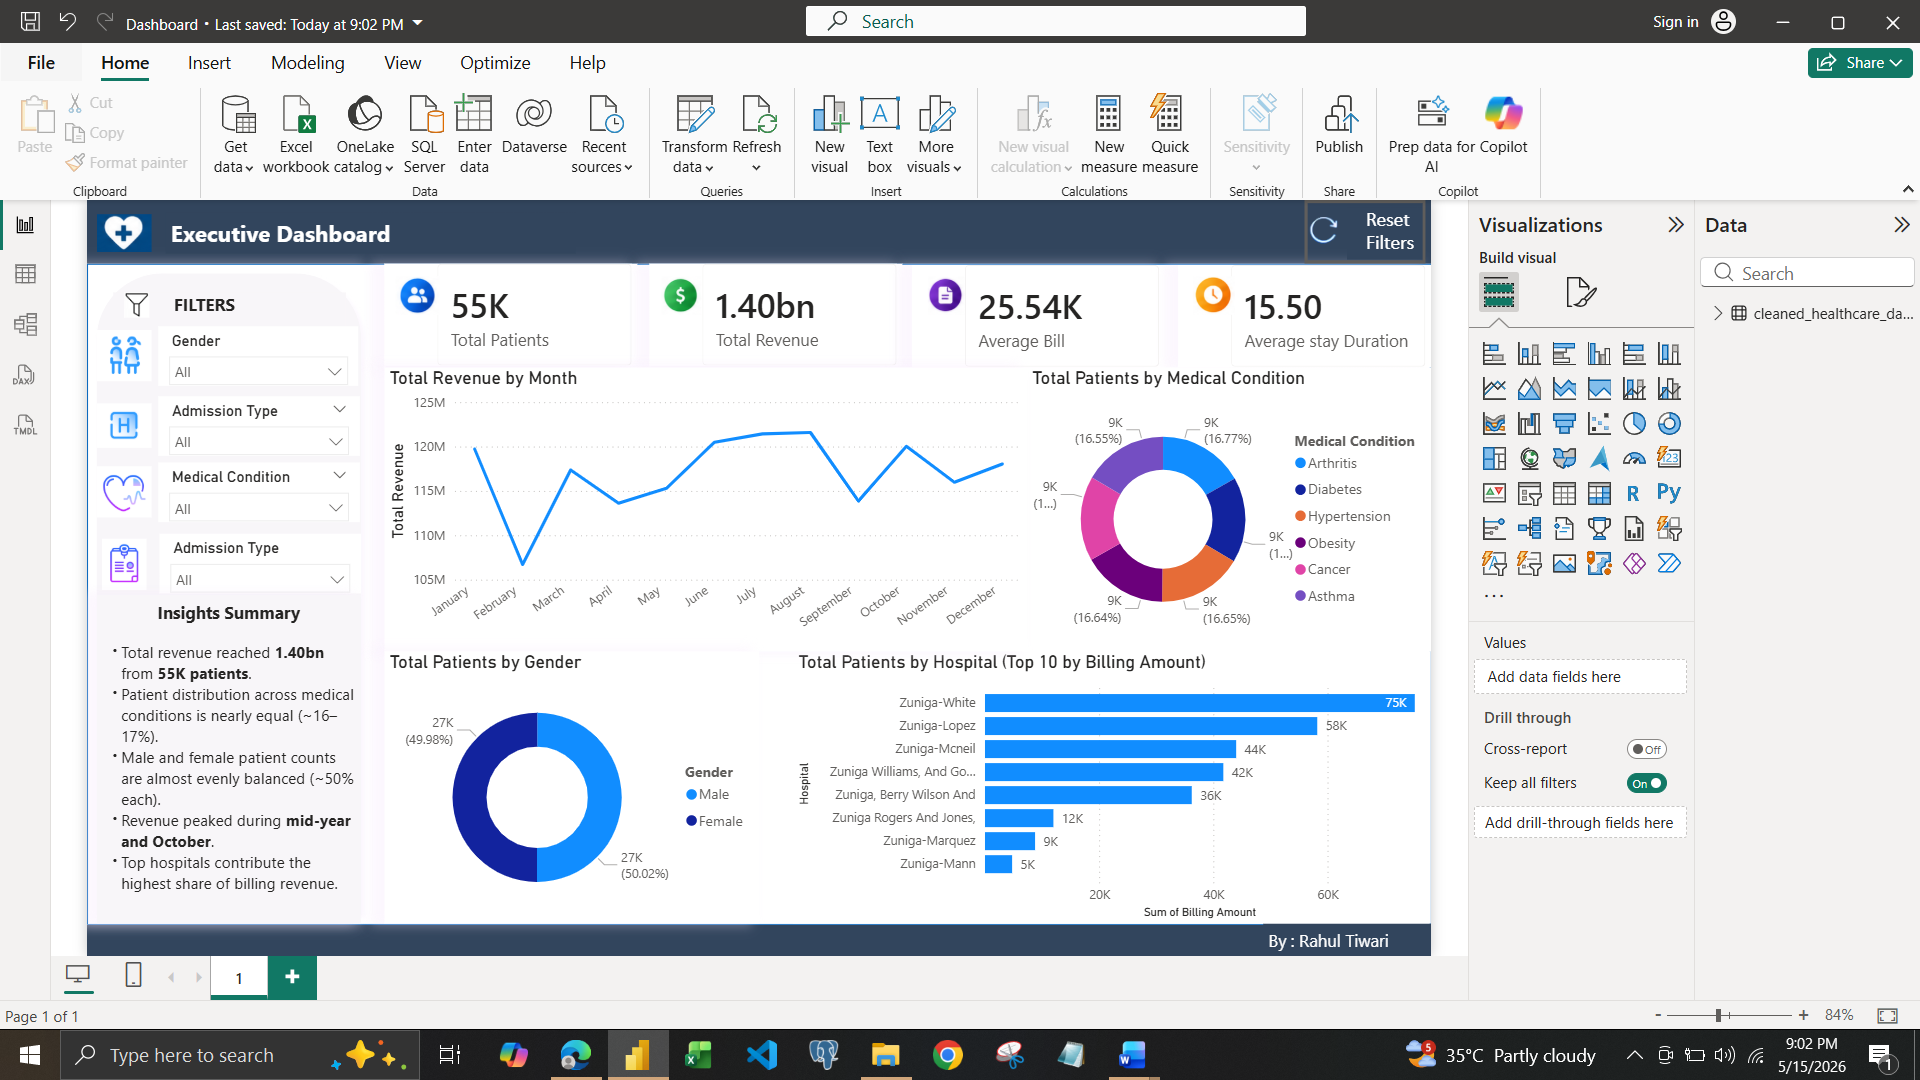

The page's visual inventory and layout, read from the dashboard file:
{"tool":"powerbi","page":{"name":"1","canvas":[1280,720],"ordinal":0},"visuals":[{"type":"shape","box":[0,60.7,1279.8,629.8],"z":0},{"type":"cardVisual","fields":{"Data":["cleaned_healthcare_dataset.Total Patients"]},"box":[283.3,60.7,240.5,97.6],"z":1000},{"type":"cardVisual","fields":{"Data":["cleaned_healthcare_dataset.Total Revenue"]},"box":[535.7,60.7,240.5,97.6],"z":2000},{"type":"cardVisual","fields":{"Data":["cleaned_healthcare_dataset.Average Bill"]},"box":[785.7,61.9,240.5,97.6],"z":3000},{"type":"cardVisual","fields":{"Data":["cleaned_healthcare_dataset.Average stay Duration"]},"box":[1039.3,61.9,240.5,97.6],"z":4000},{"type":"clusteredBarChart","title":"Total Patients by Hospital (Top 10 by Billing Amount)","fields":{"Category":["cleaned_healthcare_dataset.Hospital"],"Y":["Sum(cleaned_healthcare_dataset.Billing Amount)"]},"box":[672.6,429.8,607.1,259.5],"z":5000},{"type":"donutChart","fields":{"Category":["cleaned_healthcare_dataset.Medical Condition"],"Y":["cleaned_healthcare_dataset.Total Patients"]},"box":[895.2,159.5,384.5,270.2],"z":6000},{"type":"lineChart","fields":{"Category":["cleaned_healthcare_dataset.Date of Admission.Variation.Date Hierarchy.Month"],"Y":["cleaned_healthcare_dataset.Total Revenue"]},"box":[283.3,159.5,611.9,270.2],"z":7000},{"type":"donutChart","fields":{"Category":["cleaned_healthcare_dataset.Gender"],"Y":["cleaned_healthcare_dataset.Total Patients"]},"box":[283.3,429.8,357.1,259.5],"z":8000},{"type":"shape","box":[0,60.7,270.2,628.6],"z":9000},{"type":"textbox","box":[25,88.1,221.4,32.1],"z":10000},{"type":"slicer","fields":{"Values":["cleaned_healthcare_dataset.Admission Type"]},"box":[67.9,186.9,191.7,57.1],"z":11000},{"type":"slicer","fields":{"Values":["cleaned_healthcare_dataset.Gender"]},"box":[67.9,120.2,190.5,57.1],"z":12000},{"type":"slicer","fields":{"Values":["cleaned_healthcare_dataset.Medical Condition"]},"box":[67.9,250,191.7,57.1],"z":13000},{"type":"slicer","fields":{"Values":["cleaned_healthcare_dataset.Admission Type"]},"box":[69,317.9,191.7,57.1],"z":14000},{"type":"image","box":[9.5,123.8,52.4,48.8],"z":15000},{"type":"image","box":[9.5,190.5,52.4,48.8],"z":16000},{"type":"image","box":[9.5,253.6,52.4,48.8],"z":17000},{"type":"image","box":[9.5,322.6,52.4,48.8],"z":18000},{"type":"image","box":[25,88.1,45.2,23.8],"z":19000},{"type":"image","box":[9.5,11.9,52.4,48.8],"z":20000},{"type":"textbox","box":[75,11.9,390.5,39.3],"z":21000},{"type":"actionButton","title":"Reset Filters","box":[1199.7,6.7,75.2,49.7],"z":22000},{"type":"image","box":[1159,0,36.2,57],"z":23000},{"type":"textbox","box":[1120,688.7,160,32],"z":24000},{"type":"actionButton","box":[1159.4,0,115.5,60.5],"z":25000},{"type":"image","box":[291.7,72.6,46.4,36.9],"z":25001},{"type":"image","box":[1050,72.6,46.4,36.9],"z":25002},{"type":"image","box":[795.2,72.6,46.4,36.9],"z":25003},{"type":"image","box":[542.9,72.6,46.4,36.9],"z":25004},{"type":"textbox","box":[0,376.2,260.7,313.1],"z":25005}]}

Visuals, with their boxes on the page's 1280x720 design canvas (x1, y1, x2, y2). These are canvas units, not pixel positions in the 1920x1080 screenshot, which may show the page scaled, cropped or inside an application window:
shape: (0, 61, 1280, 690)
cardVisual - cleaned_healthcare_dataset.Total Patients: (283, 61, 524, 158)
cardVisual - cleaned_healthcare_dataset.Total Revenue: (536, 61, 776, 158)
cardVisual - cleaned_healthcare_dataset.Average Bill: (786, 62, 1026, 160)
cardVisual - cleaned_healthcare_dataset.Average stay Duration: (1039, 62, 1280, 160)
"Total Patients by Hospital (Top 10 by Billing Amount)" clusteredBarChart: (673, 430, 1280, 689)
donutChart - cleaned_healthcare_dataset.Medical Condition x cleaned_healthcare_dataset.Total Patients: (895, 160, 1280, 430)
lineChart - cleaned_healthcare_dataset.Date of Admission.Variation.Date Hierarchy.Month x cleaned_healthcare_dataset.Total Revenue: (283, 160, 895, 430)
donutChart - cleaned_healthcare_dataset.Gender x cleaned_healthcare_dataset.Total Patients: (283, 430, 640, 689)
shape: (0, 61, 270, 689)
textbox: (25, 88, 246, 120)
slicer - cleaned_healthcare_dataset.Admission Type: (68, 187, 260, 244)
slicer - cleaned_healthcare_dataset.Gender: (68, 120, 258, 177)
slicer - cleaned_healthcare_dataset.Medical Condition: (68, 250, 260, 307)
slicer - cleaned_healthcare_dataset.Admission Type: (69, 318, 261, 375)
image: (10, 124, 62, 173)
image: (10, 190, 62, 239)
image: (10, 254, 62, 302)
image: (10, 323, 62, 371)
image: (25, 88, 70, 112)
image: (10, 12, 62, 61)
textbox: (75, 12, 466, 51)
"Reset Filters" actionButton: (1200, 7, 1275, 56)
image: (1159, 0, 1195, 57)
textbox: (1120, 689, 1280, 721)
actionButton: (1159, 0, 1275, 60)
image: (292, 73, 338, 110)
image: (1050, 73, 1096, 110)
image: (795, 73, 842, 110)
image: (543, 73, 589, 110)
textbox: (0, 376, 261, 689)
